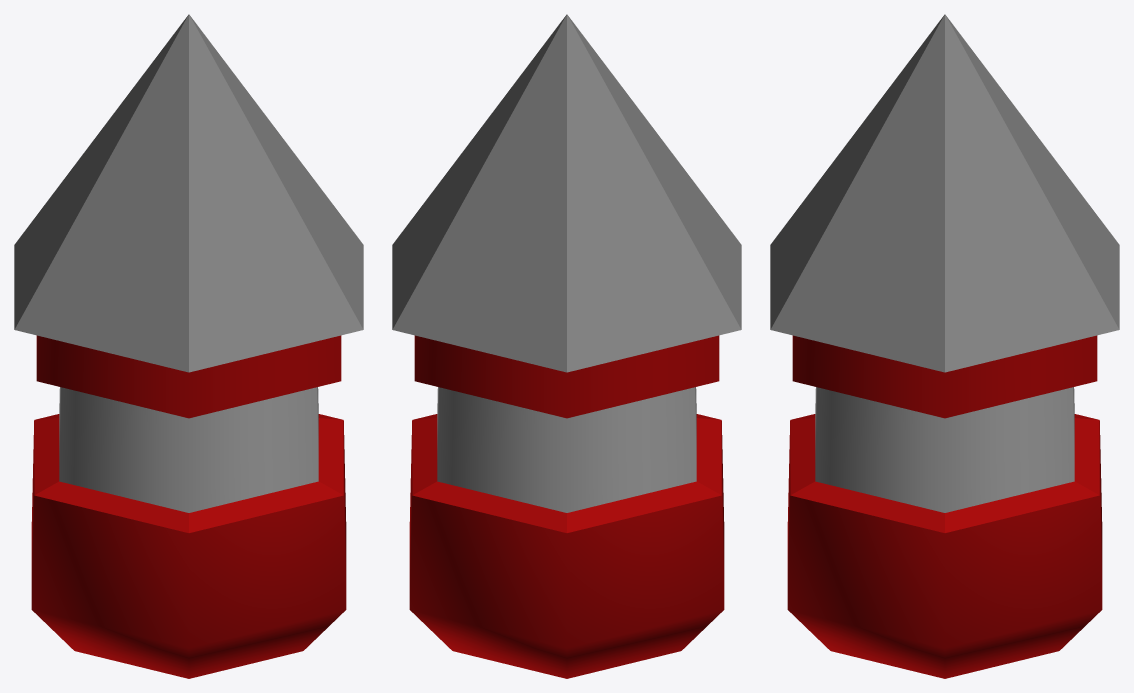
File: posoh10.fbx
The picture shows the model from 3 angles, left to right: view 1: azimuth 30°, elevation 25°; view 2: azimuth 150°, elevation 25°; view 3: azimuth 270°, elevation 25°; orthographic projection.
Parts seen in each view (by area): view 1: posoh10; view 2: posoh10; view 3: posoh10.
Part boxes in pixels (x1=…): posoh10: x1=14, y1=14, x2=363, y2=678; posoh10: x1=392, y1=14, x2=741, y2=678; posoh10: x1=770, y1=14, x2=1119, y2=678.
Bounding box in the file's own units: 8.46 × 14.1 × 7.33.
